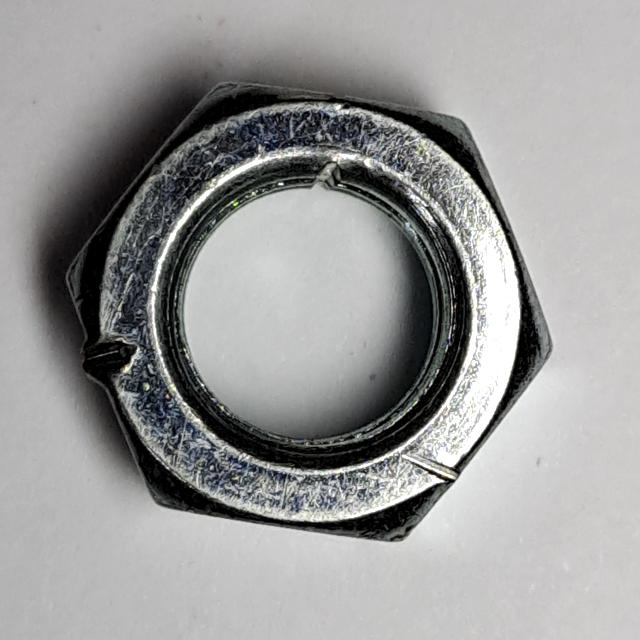Scratches: (55, 68, 561, 557)
